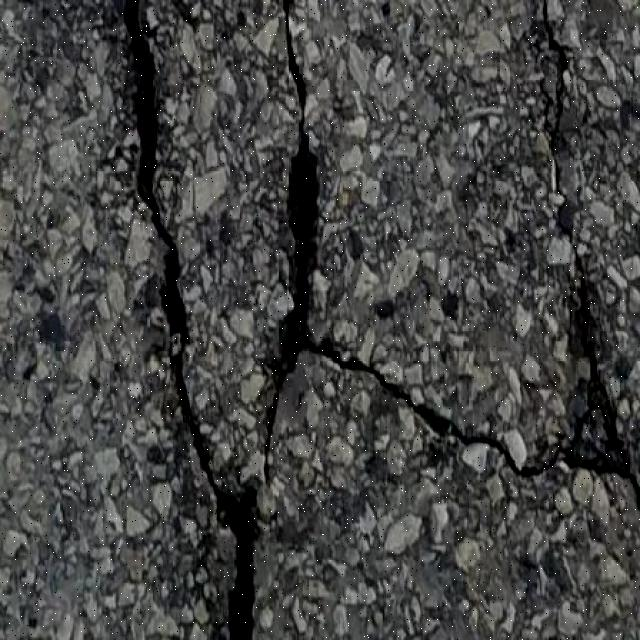Crack: (268, 34, 591, 478), (557, 168, 640, 507), (123, 0, 185, 367), (181, 382, 262, 639), (542, 0, 566, 161)
